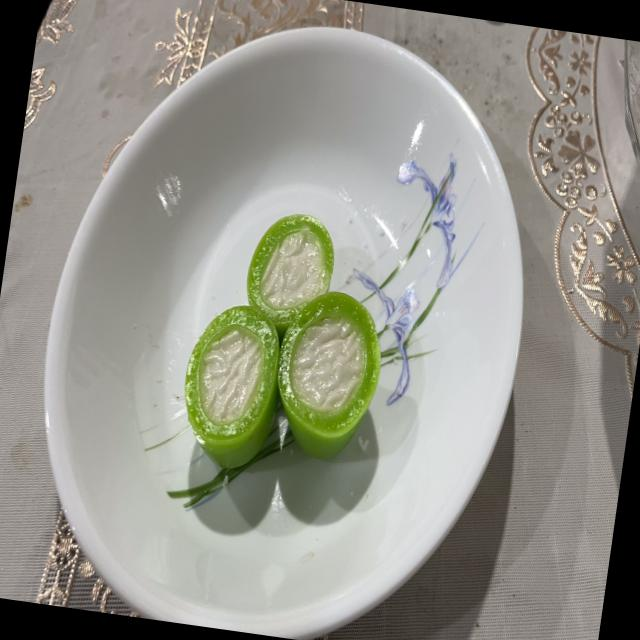nona-manis: (278, 292, 381, 460), (185, 306, 280, 469), (247, 214, 334, 344)
